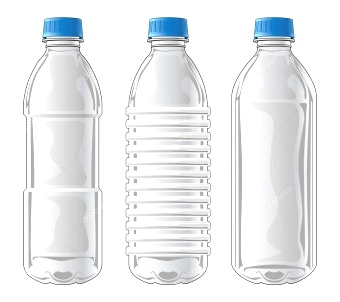plastic: (229, 12, 332, 282), (26, 10, 105, 294), (127, 12, 210, 282)
